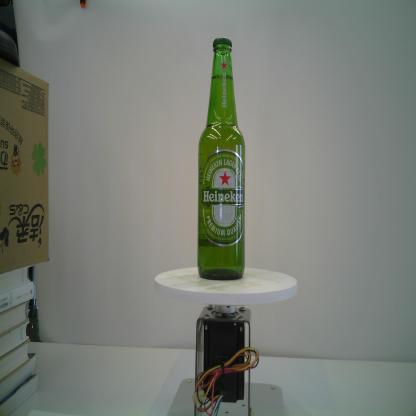Alcohol: (192, 34, 247, 282)
